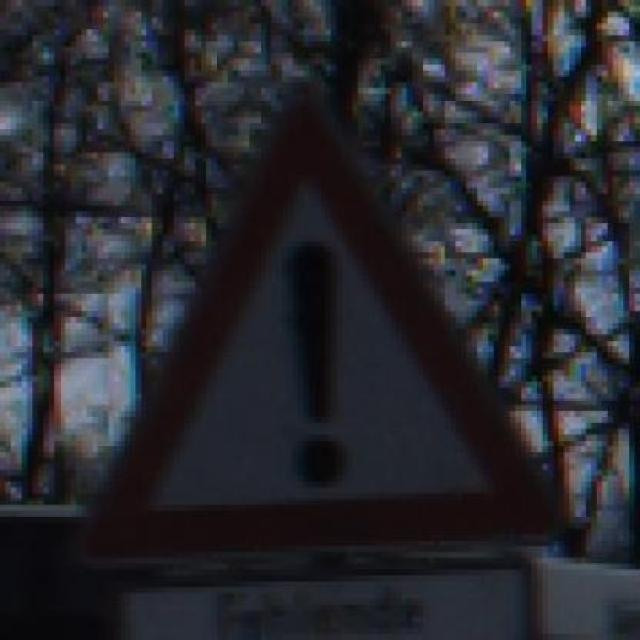Attention Please-: (64, 100, 576, 546)
